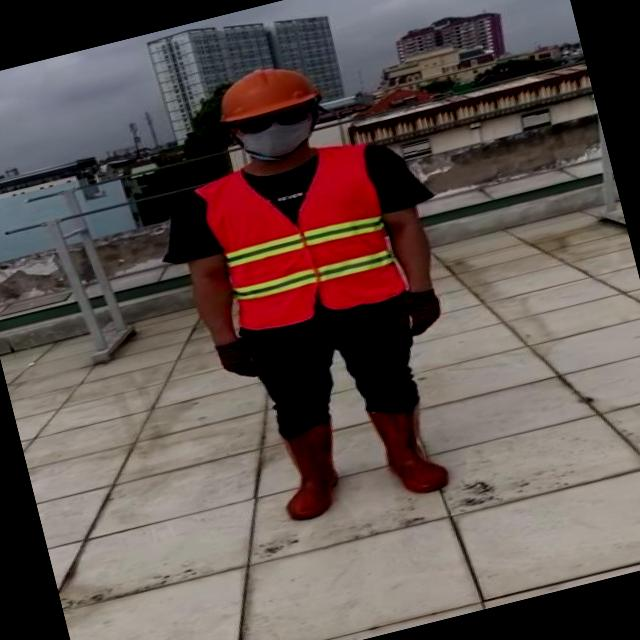boots: (364, 394, 451, 501), (268, 420, 352, 522)
gloves: (191, 306, 274, 390), (388, 265, 452, 341)
helmet: (204, 54, 322, 131)
vest: (196, 139, 407, 337)
